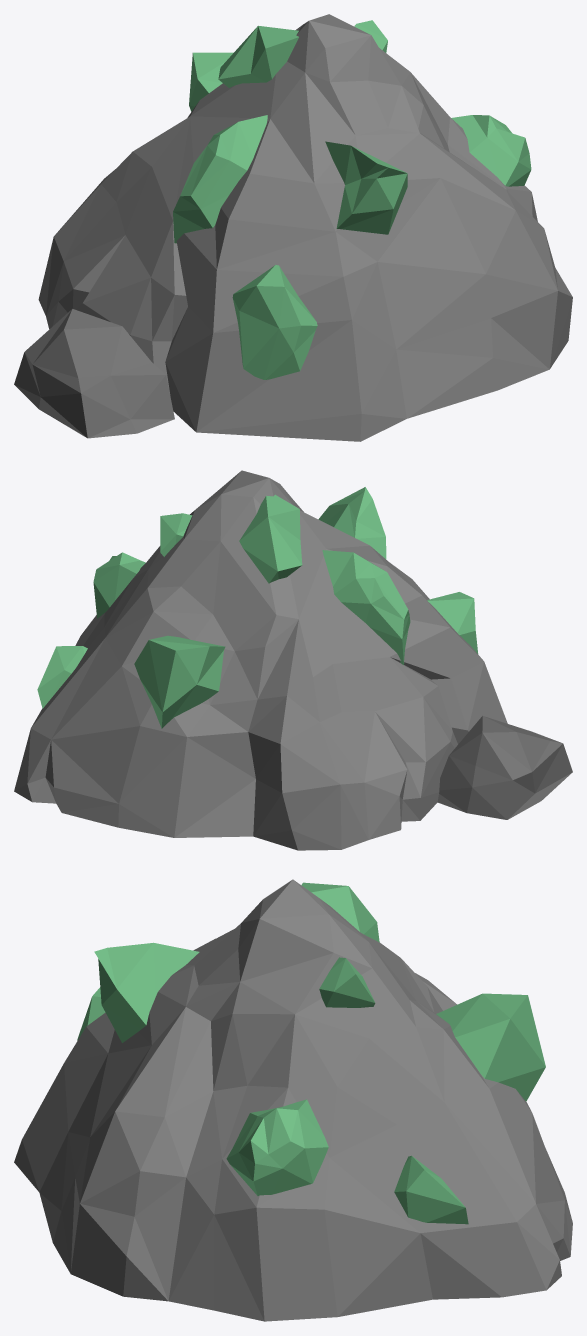
The model's file is _stone_emerald.fbx.
3 renders of one model, top to bottom at view 1: azimuth 30°, elevation 25°; view 2: azimuth 150°, elevation 25°; view 3: azimuth 270°, elevation 25°, orthographic. The views are drawn at different scales.
Visible parts, largest first — view 1: stone_emerald; view 2: stone_emerald; view 3: stone_emerald.
Part boxes in pixels (box(x1,y1,x2,y2)): stone_emerald: box(14, 14, 572, 441); stone_emerald: box(14, 470, 572, 850); stone_emerald: box(14, 879, 572, 1321).
Bounding box in the file's own units: 253 × 143 × 224.
